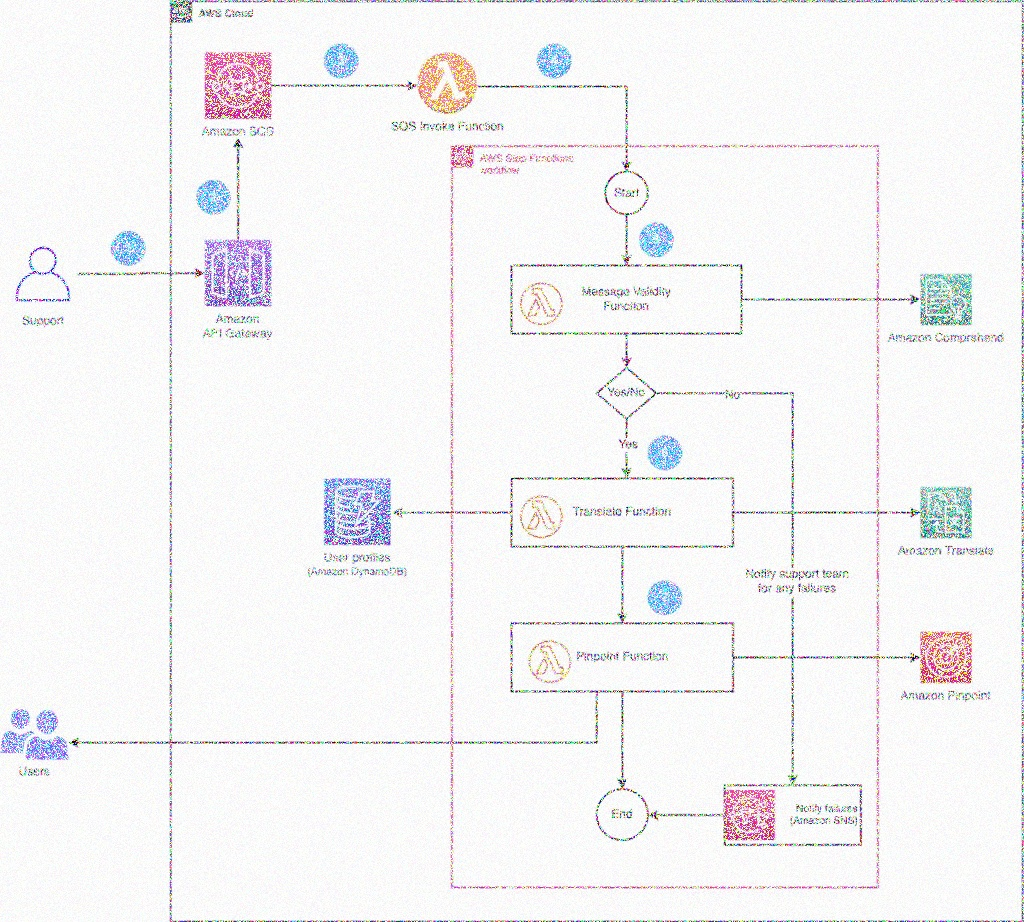API-Gateway: (199, 228, 285, 313)
Comprehend: (917, 267, 980, 329)
Dynamo DB: (312, 459, 396, 555)
Lambda: (414, 41, 486, 118), (516, 623, 577, 693), (512, 479, 568, 545), (517, 273, 569, 333)
Pinpoint: (915, 625, 977, 686)
SNS: (722, 781, 781, 845)
SQS: (196, 41, 280, 123)
Translate: (914, 477, 978, 545)
Users: (1, 689, 77, 768), (8, 234, 78, 313)
aws: (167, 0, 197, 26)
